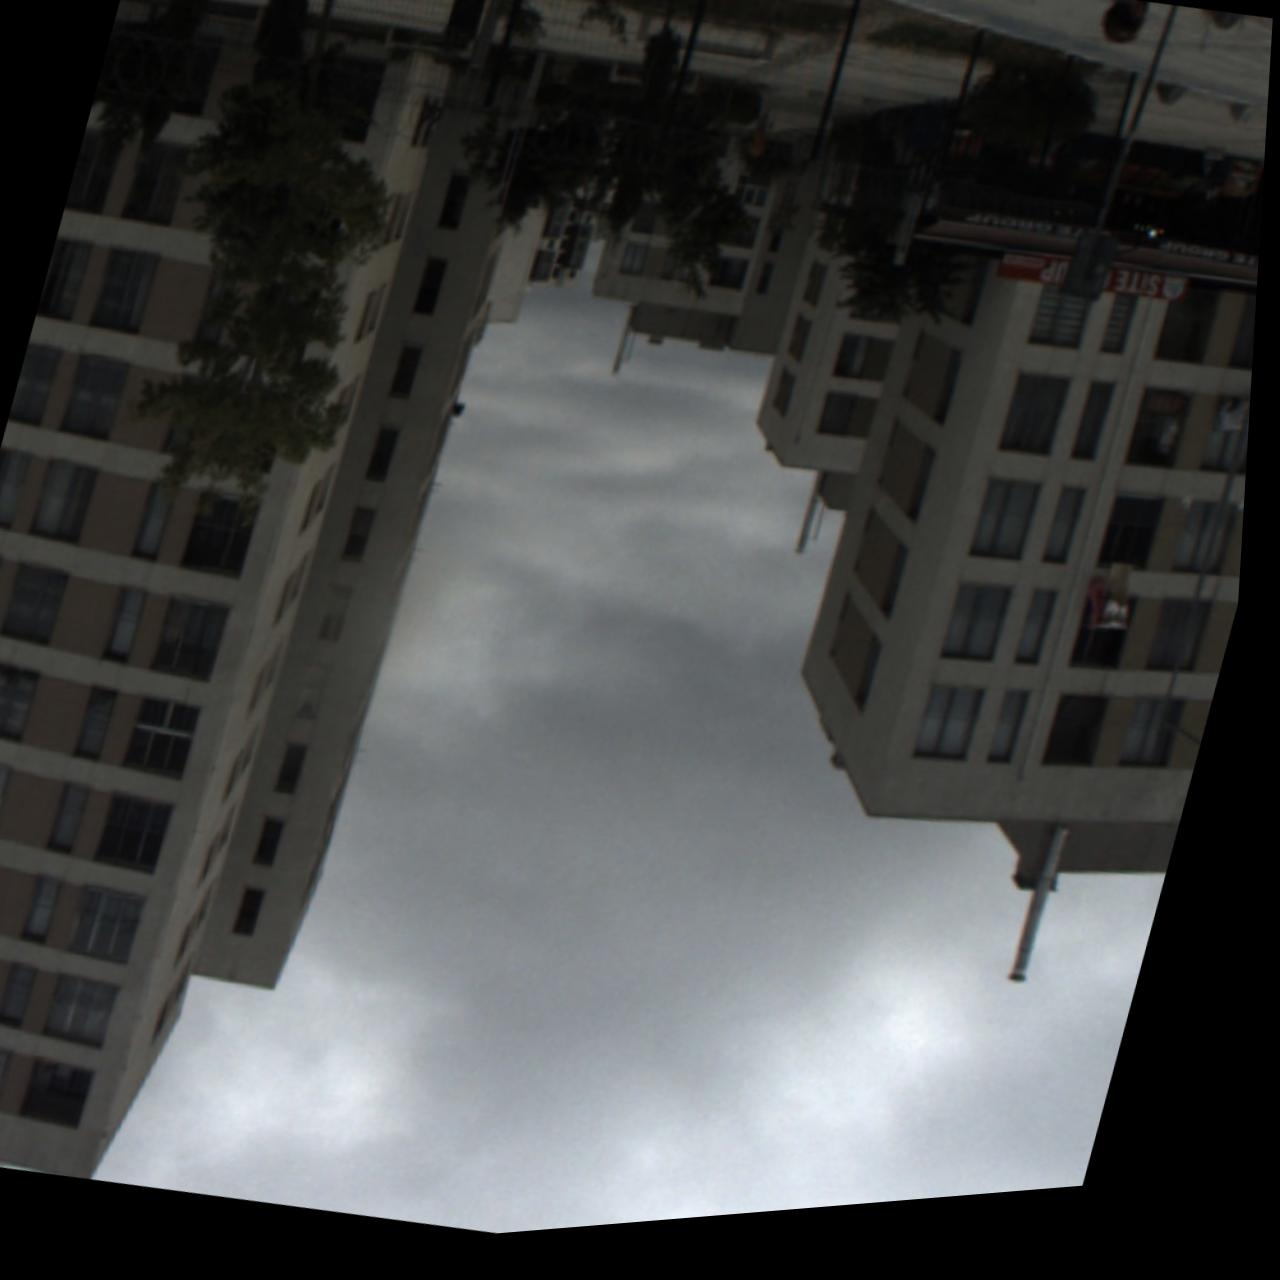SignStore: (1000, 267, 1193, 324)
